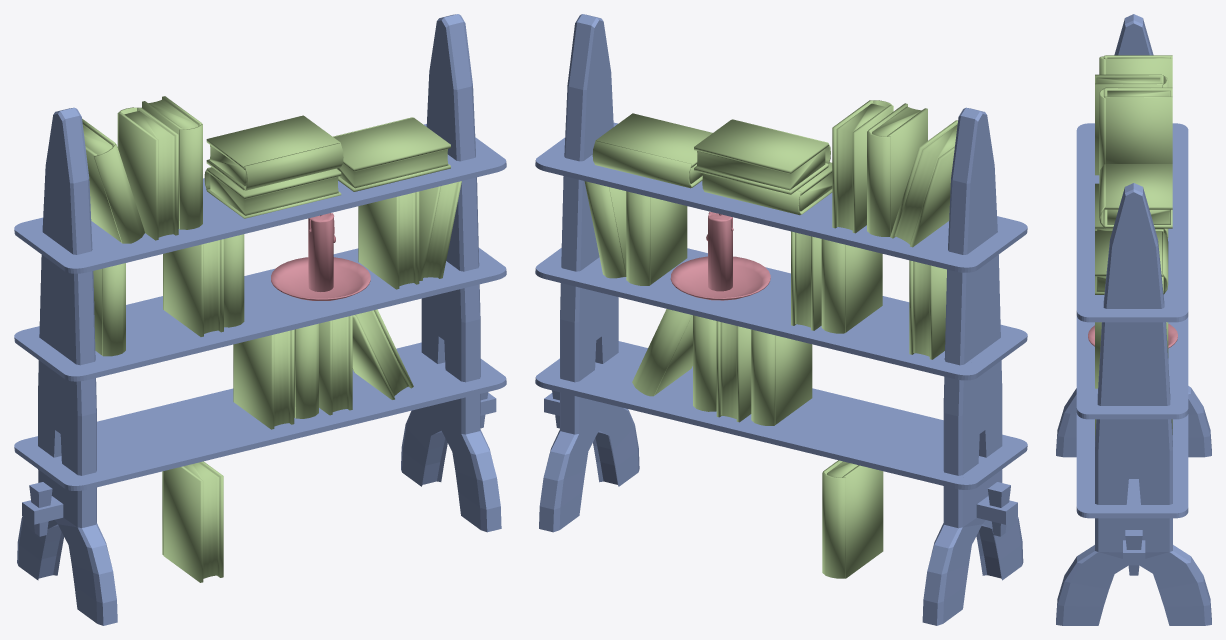
Rendered from book.fbx.
3 renders of one model, left to right at view 1: azimuth 30°, elevation 25°; view 2: azimuth 150°, elevation 25°; view 3: azimuth 270°, elevation 25°, orthographic. The views are drawn at different scales.
Parts seen in each view (by area): view 1: bookcase, bookcase_contents.072, bookcase_contents.023, bookcase_contents.019, bookcase_contents.035, bookcase_contents.011, bookcase_contents.055, bookcase_contents.043, bookcase_contents.006, bookcase_contents.026, bookcase_contents.018, bookcase_contents.034 (+20 smaller); view 2: bookcase, bookcase_contents.072, bookcase_contents.023, bookcase_contents.019, bookcase_contents.011, bookcase_contents.006, bookcase_contents.043, bookcase_contents.055, bookcase_contents.022, bookcase_contents.038, bookcase_contents.062, bookcase_contents.014 (+22 smaller); view 3: bookcase, bookcase_contents.033, bookcase_contents.023, bookcase_contents.017, bookcase_contents.019, bookcase_contents.037, bookcase_contents.034, bookcase_contents.024, bookcase_contents.036, bookcase_contents.032, bookcase_contents.022, bookcase_contents.026 (+5 smaller).
Boxes of the visible parts, <box> form: bookcase: <box>14,14,506,625</box>; bookcase_contents.072: <box>162,461,223,582</box>; bookcase_contents.023: <box>206,115,340,169</box>; bookcase_contents.019: <box>333,117,450,171</box>; bookcase_contents.035: <box>118,112,158,240</box>; bookcase_contents.011: <box>234,334,274,429</box>; bookcase_contents.055: <box>359,196,399,289</box>; bookcase_contents.043: <box>163,244,203,336</box>; bookcase_contents.006: <box>271,257,370,300</box>; bookcase_contents.026: <box>244,143,343,190</box>; bookcase_contents.018: <box>94,144,144,243</box>; bookcase_contents.034: <box>179,124,202,229</box>; bookcase: <box>535,14,1027,625</box>; bookcase_contents.072: <box>822,460,883,578</box>; bookcase_contents.023: <box>694,119,828,173</box>; bookcase_contents.019: <box>595,113,712,167</box>; bookcase_contents.011: <box>775,335,812,424</box>; bookcase_contents.006: <box>670,256,770,300</box>; bookcase_contents.043: <box>845,245,882,332</box>; bookcase_contents.055: <box>650,197,687,284</box>; bookcase_contents.022: <box>592,140,691,188</box>; bookcase_contents.038: <box>867,131,890,236</box>; bookcase_contents.062: <box>632,309,692,396</box>; bookcase_contents.014: <box>751,329,775,425</box>; bookcase: <box>1056,14,1211,625</box>; bookcase_contents.033: <box>1104,96,1172,163</box>; bookcase_contents.023: <box>1104,164,1172,209</box>; bookcase_contents.017: <box>1104,58,1172,87</box>; bookcase_contents.019: <box>1095,231,1163,276</box>; bookcase_contents.037: <box>1095,83,1163,175</box>; bookcase_contents.034: <box>1099,88,1105,173</box>; bookcase_contents.024: <box>1107,209,1170,224</box>; bookcase_contents.036: <box>1096,77,1160,83</box>; bookcase_contents.032: <box>1107,90,1170,96</box>; bookcase_contents.022: <box>1162,231,1168,294</box>; bookcase_contents.026: <box>1099,164,1105,228</box>.
Size of the model in its own units: 3374 by 3384 by 1093.
